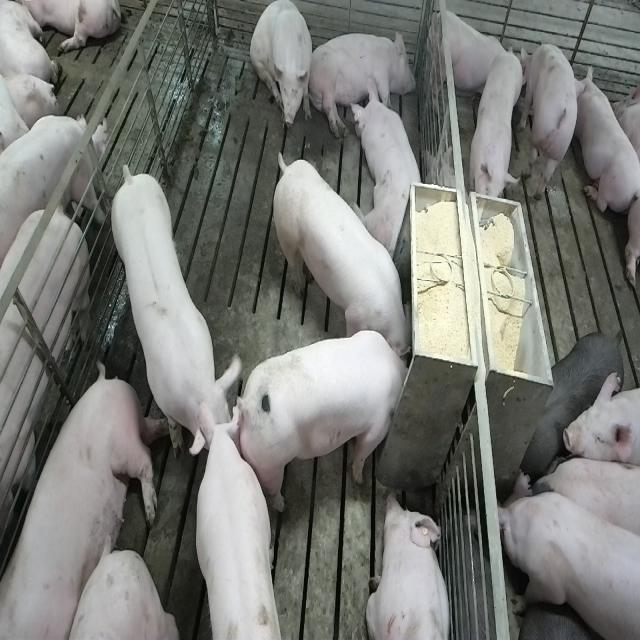Feeding: (244, 330, 420, 512), (268, 142, 412, 358)
Lateral_lying: (307, 27, 416, 141)
Sitting: (250, 1, 314, 135)
Standing: (109, 154, 245, 458), (0, 200, 93, 640), (498, 479, 638, 640), (188, 412, 282, 640), (0, 108, 107, 256), (524, 330, 623, 458), (530, 451, 640, 546), (522, 36, 580, 206), (468, 48, 524, 220)
Sternal_lying: (366, 490, 454, 640), (353, 86, 428, 259), (576, 63, 638, 215), (426, 5, 520, 101)
